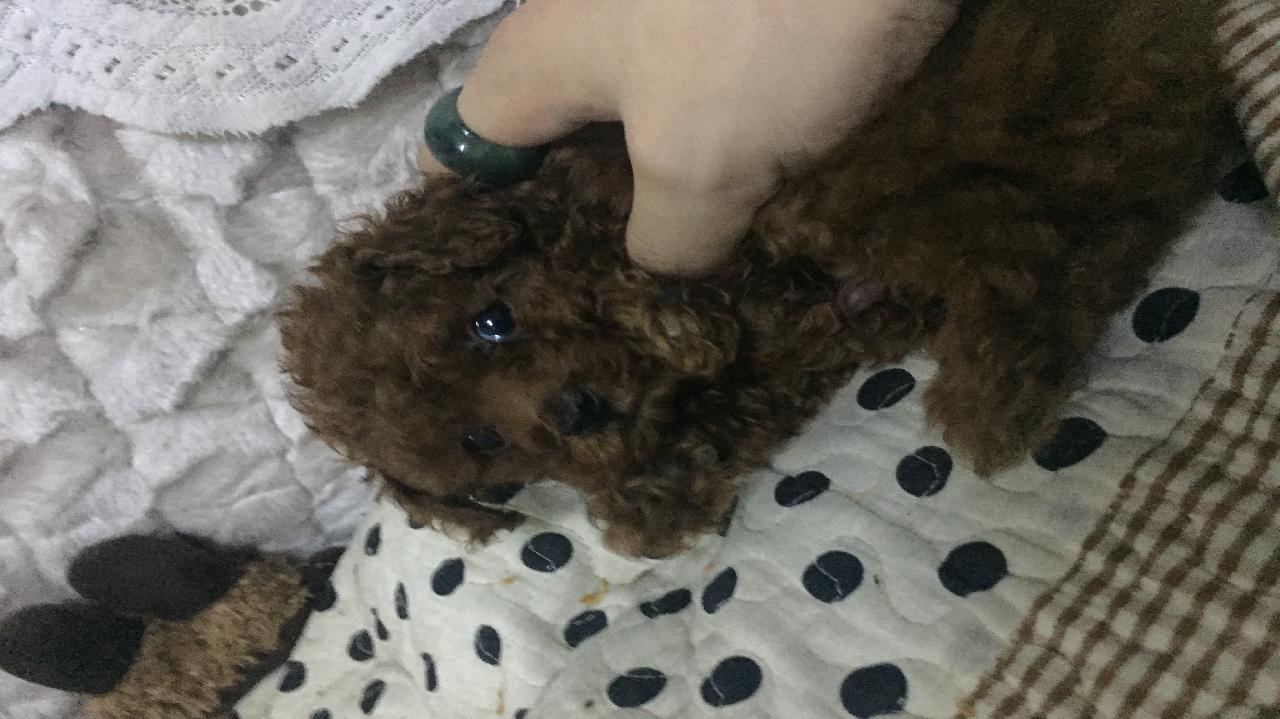coin: (287, 73, 1244, 538)
